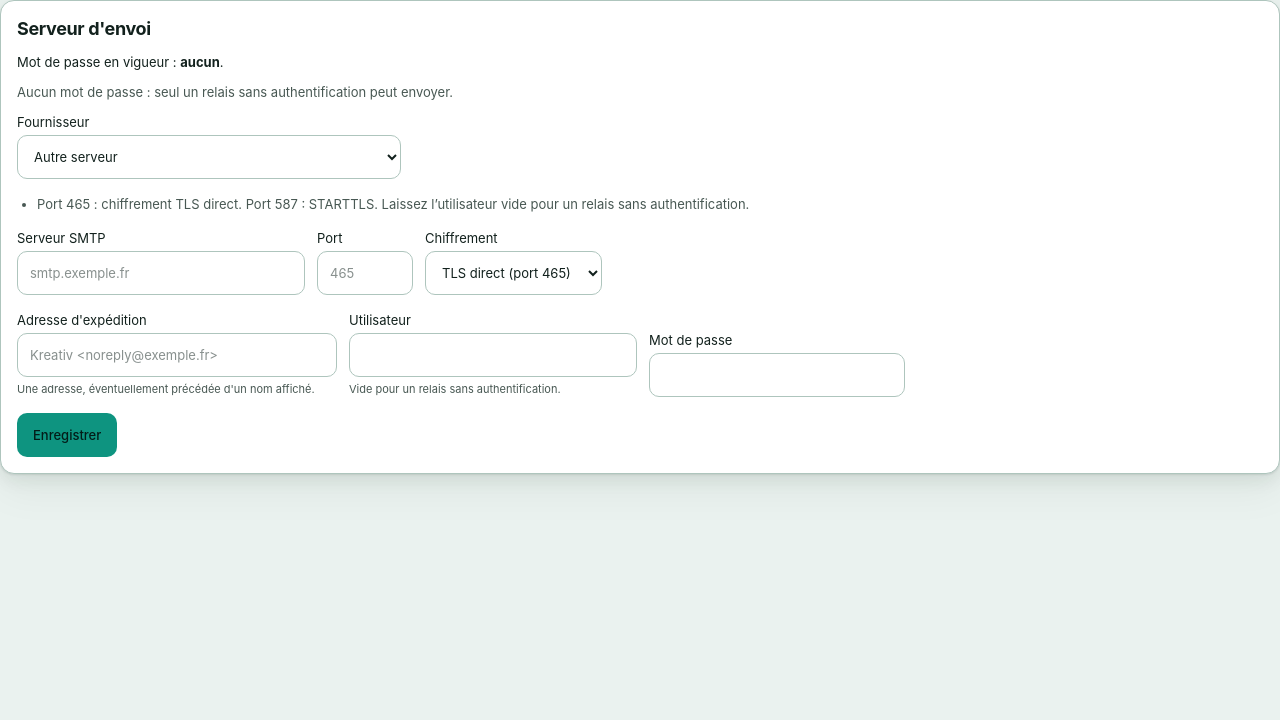
Test: ReglagesForm (courriel) › annonce les refus
Click the button "Enregistrer" at (67, 435), box [17,413,117,457]
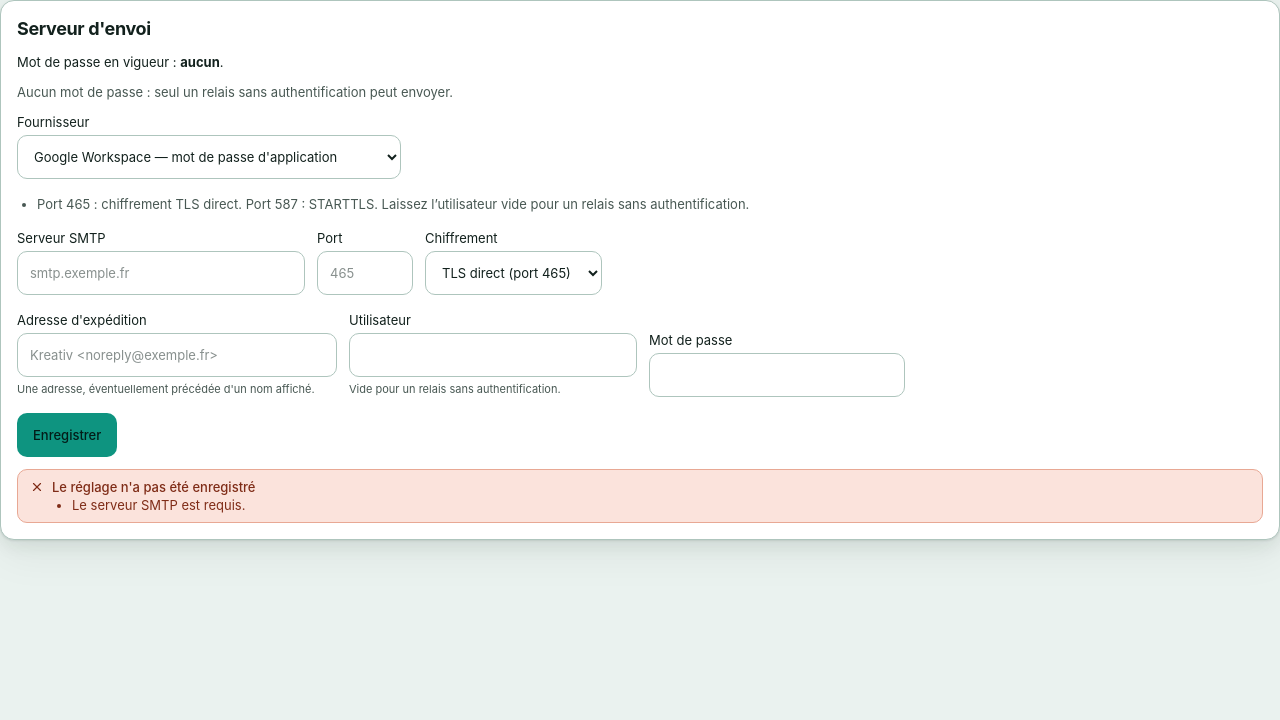
Expected: the message shows "Le serveur SMTP est requis.", [72,497,245,513]
